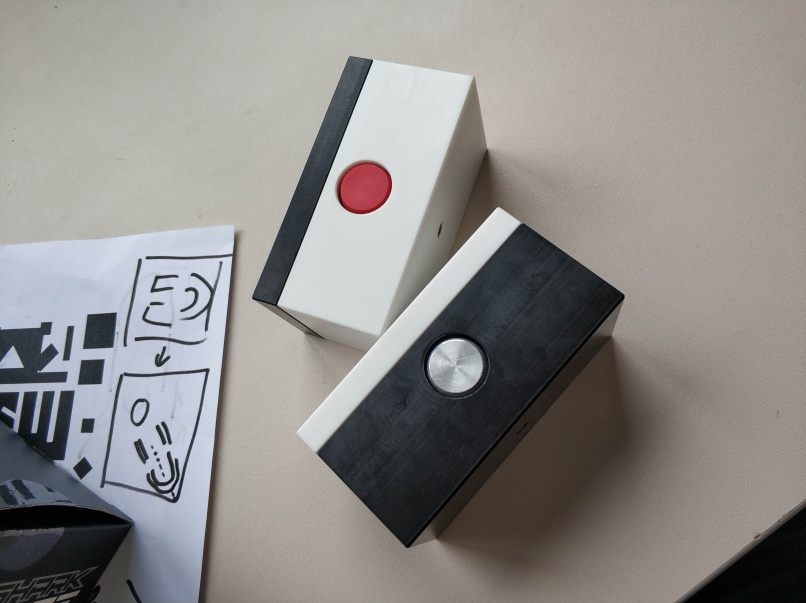black+white+red: (249, 55, 489, 349)
white+black+silver: (295, 204, 628, 549)
